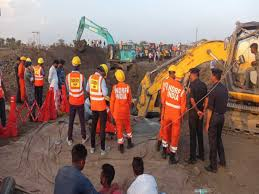arm: (178, 87, 188, 125), (100, 77, 110, 107), (64, 73, 71, 104)
face: (97, 171, 112, 185)
footwear: (203, 161, 218, 172), (184, 154, 197, 164), (168, 152, 179, 163), (126, 136, 135, 147), (159, 146, 168, 157), (118, 141, 126, 152), (89, 142, 97, 152), (99, 143, 107, 151), (79, 132, 87, 140), (66, 134, 74, 141)
glove: (104, 104, 111, 112)
helmet: (127, 172, 161, 193), (112, 66, 126, 80), (69, 53, 82, 67), (96, 61, 109, 73), (166, 61, 179, 73), (18, 53, 31, 64), (36, 54, 45, 64)
human: (155, 60, 189, 161), (50, 140, 95, 192), (108, 64, 134, 149), (86, 59, 111, 147), (63, 52, 87, 139), (122, 155, 165, 194), (14, 52, 32, 104), (31, 53, 47, 105), (1, 61, 8, 128)
leg: (167, 116, 182, 162), (184, 117, 198, 163), (96, 109, 108, 151), (87, 108, 98, 148), (77, 104, 88, 140), (66, 105, 77, 141), (114, 115, 125, 150), (123, 114, 134, 147), (1, 99, 7, 126), (37, 84, 44, 106)
nohelmet: (69, 142, 87, 166), (97, 162, 115, 186), (131, 155, 145, 173), (51, 56, 61, 66)
novest: (48, 68, 59, 87)
vest: (159, 78, 187, 123), (54, 166, 92, 192), (111, 80, 131, 116), (89, 73, 107, 109), (67, 69, 85, 103), (17, 62, 27, 86), (33, 64, 44, 84), (1, 83, 2, 101)
